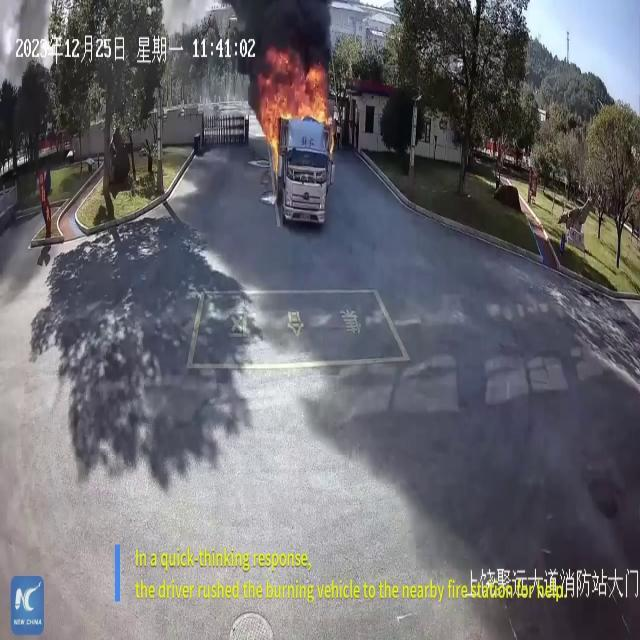Fire: (256, 55, 334, 164)
Smoke: (210, 0, 334, 63)
